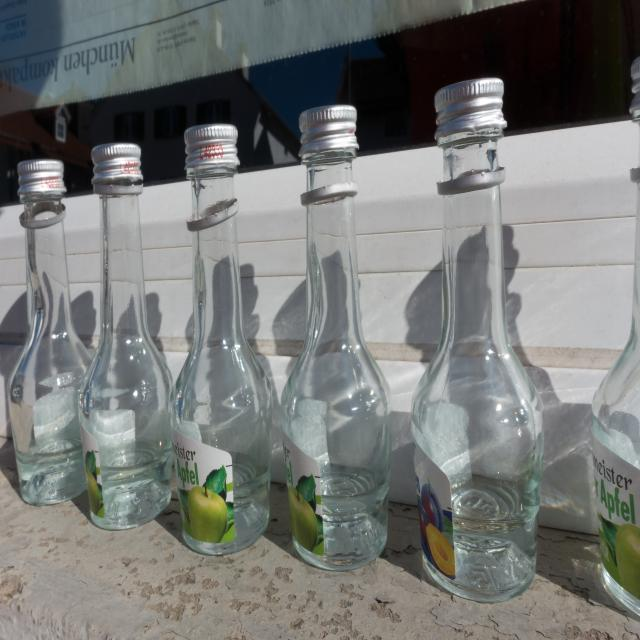plastic_bottle: (410, 74, 544, 604)
